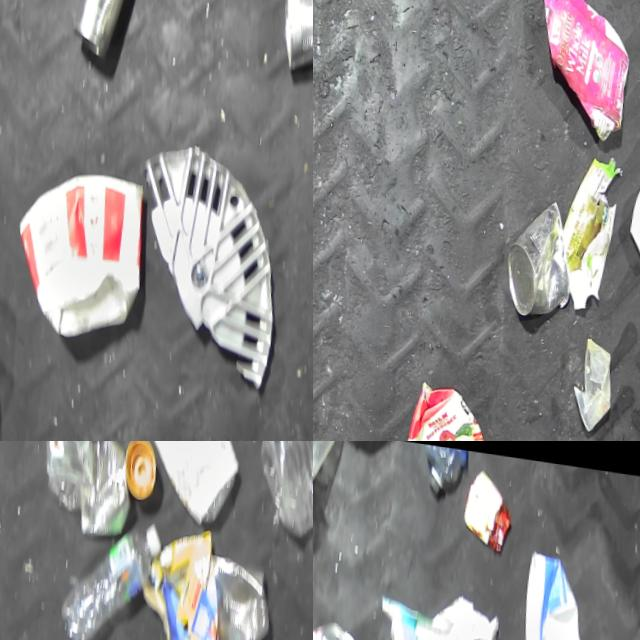can: (494, 189, 575, 318), (195, 548, 273, 640), (67, 441, 135, 544), (64, 0, 139, 60), (274, 0, 313, 75), (313, 608, 373, 640)
non_white_jug: (388, 368, 502, 441)
plastic_bottle: (40, 503, 166, 640), (239, 441, 313, 544), (28, 441, 105, 518), (409, 441, 468, 486)
